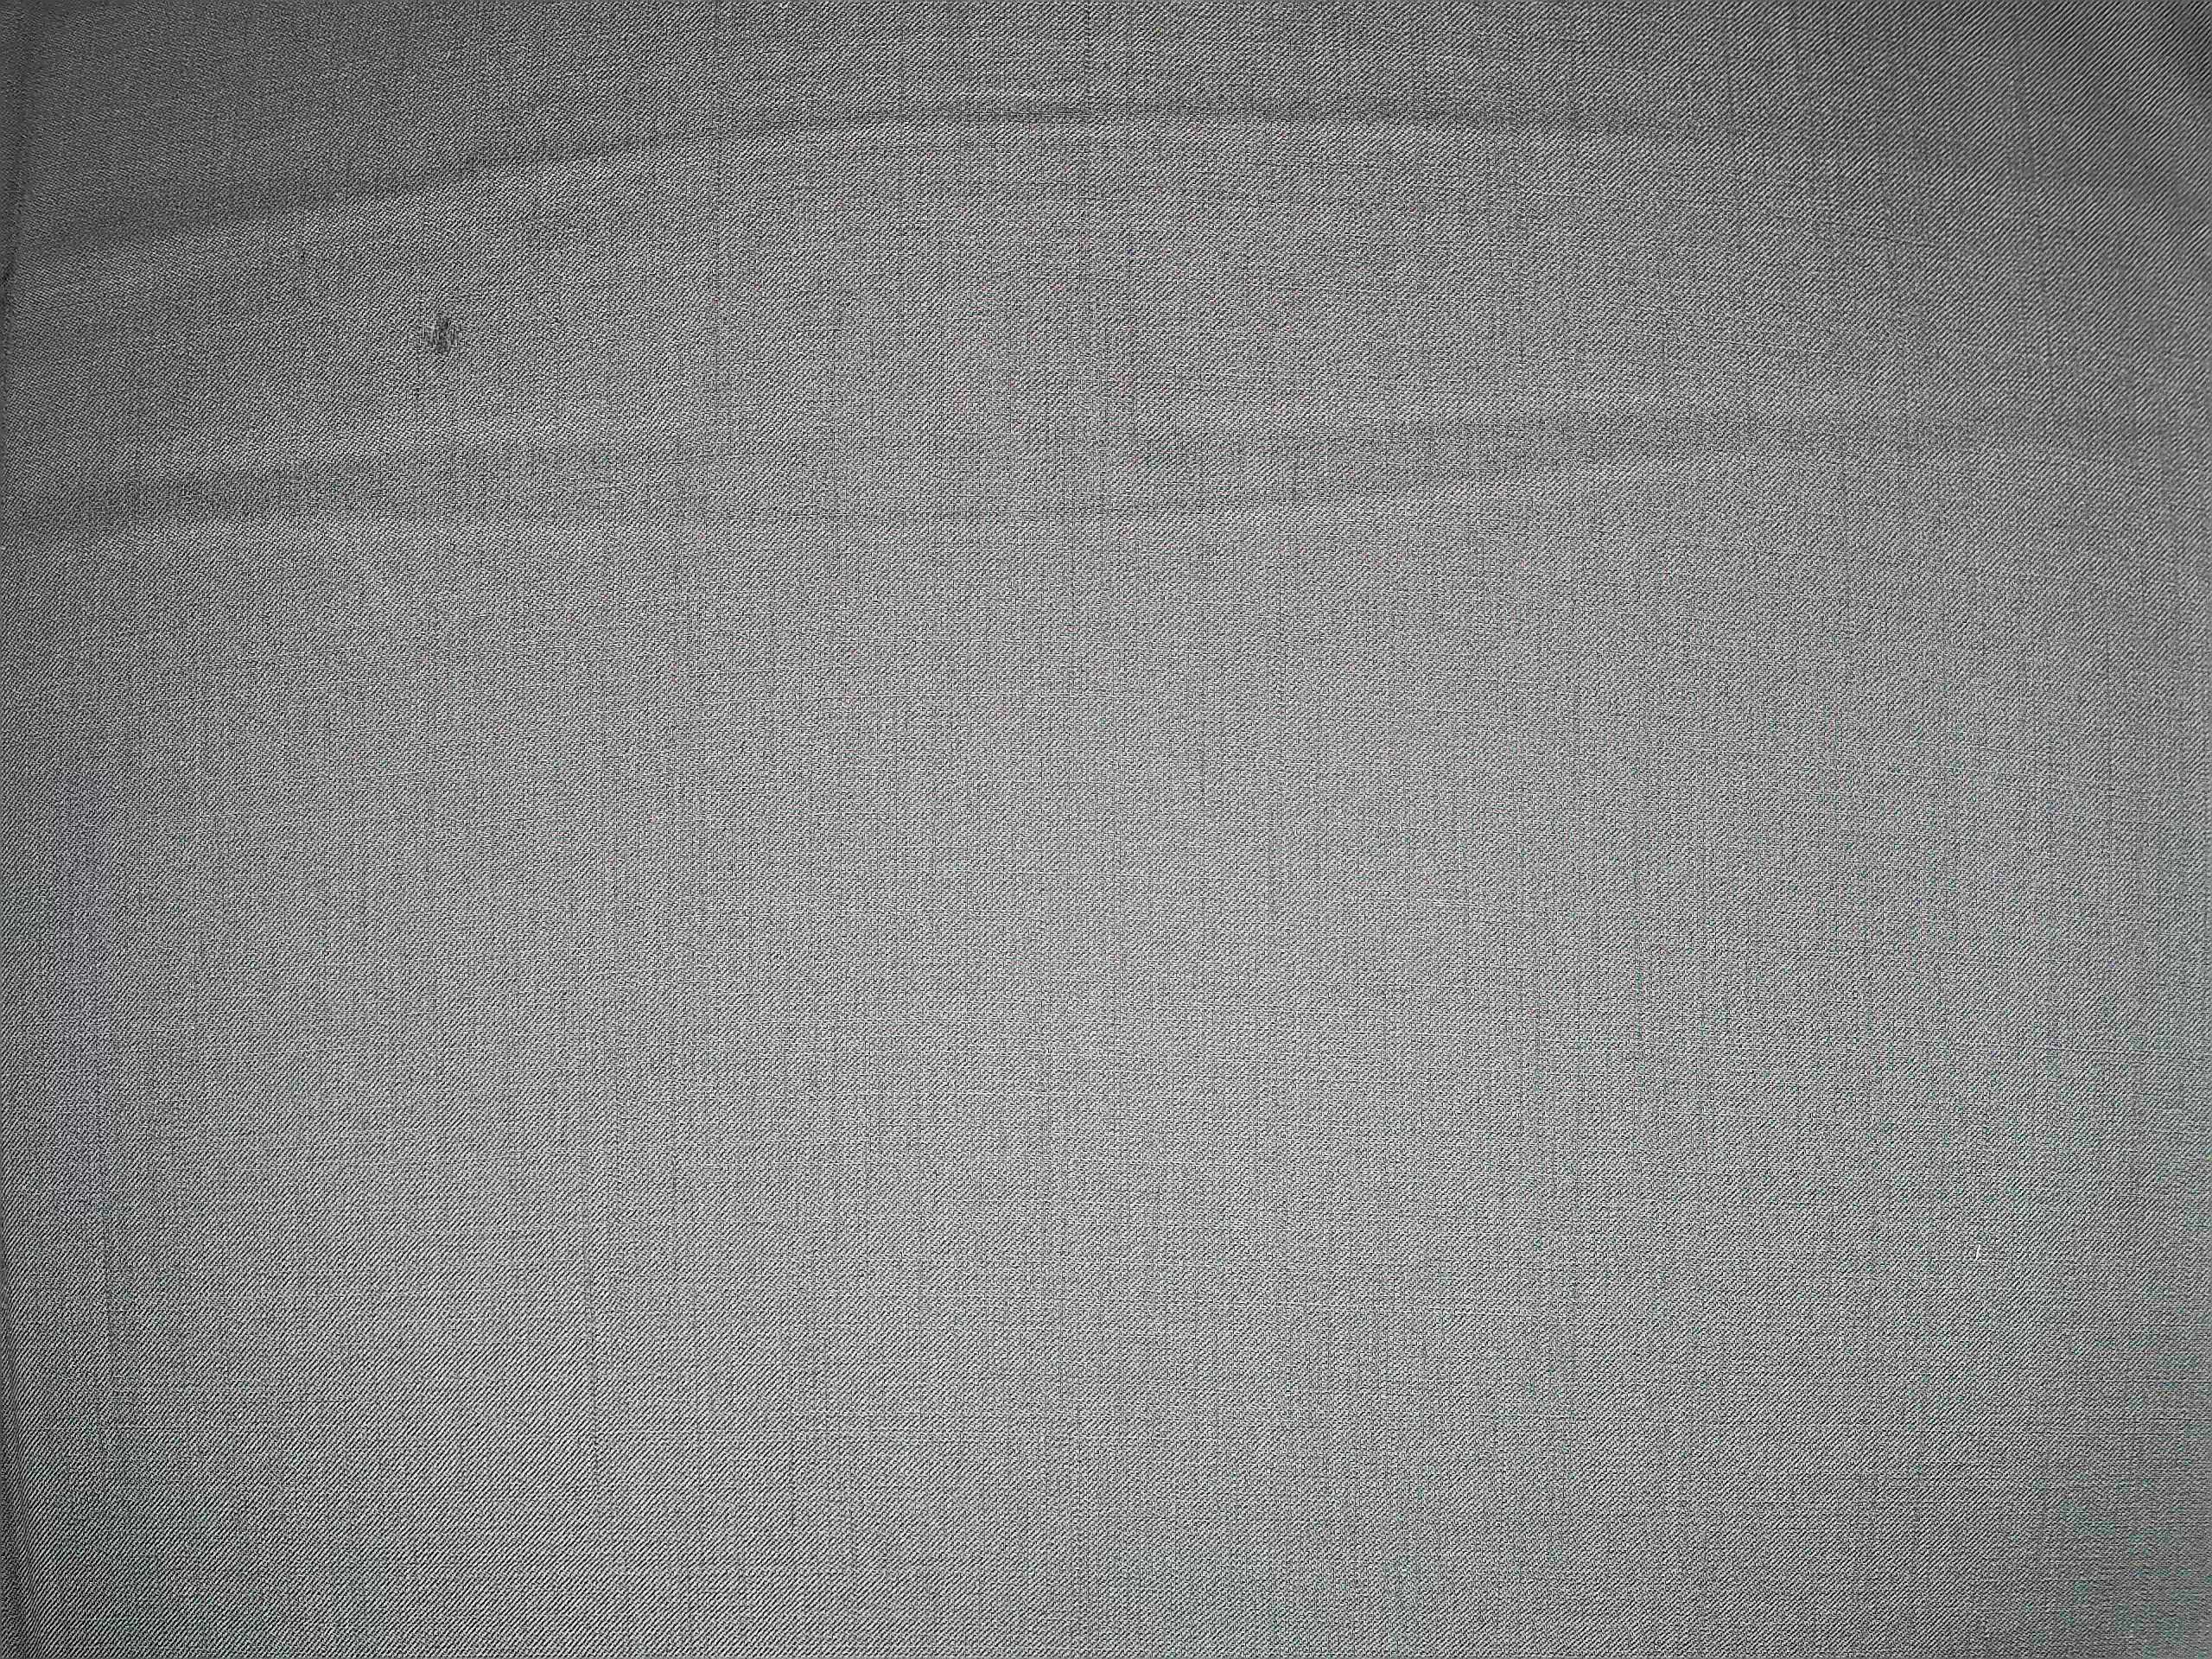knots: (402, 301, 477, 369)
